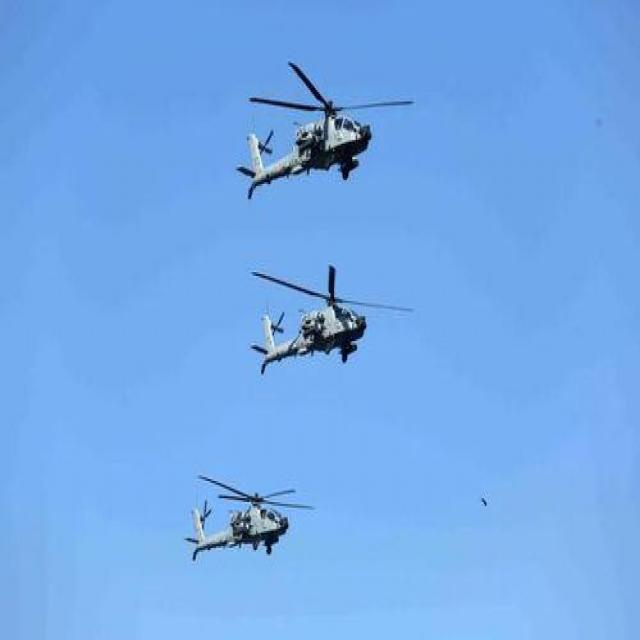MIL_HELO: (233, 50, 414, 206), (239, 244, 423, 384), (178, 460, 322, 560)
